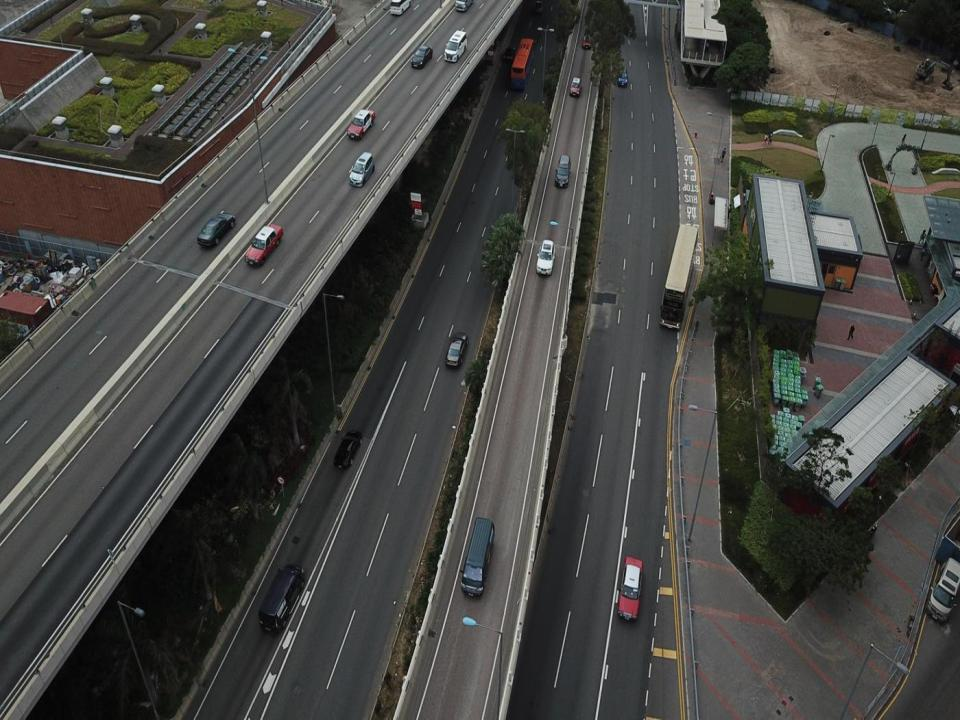bus: (660, 222, 700, 330), (510, 36, 536, 92)
car: (618, 556, 644, 622), (245, 223, 283, 268), (196, 213, 237, 248), (333, 428, 362, 470), (444, 330, 470, 371), (345, 108, 374, 140), (534, 238, 556, 277), (410, 45, 434, 69), (388, 0, 412, 16), (582, 23, 594, 51), (569, 75, 582, 98), (616, 64, 629, 85)
van: (257, 563, 305, 636), (459, 517, 496, 599), (926, 556, 960, 626), (443, 28, 469, 63), (554, 154, 573, 188)
